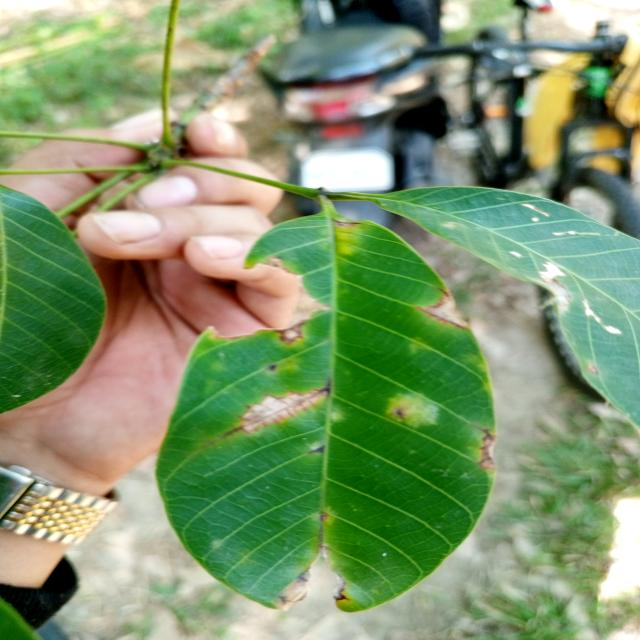Leaf-Blight: (240, 392, 324, 432), (434, 297, 466, 326), (278, 580, 308, 610), (480, 436, 498, 470), (539, 262, 565, 285), (283, 328, 298, 341)
